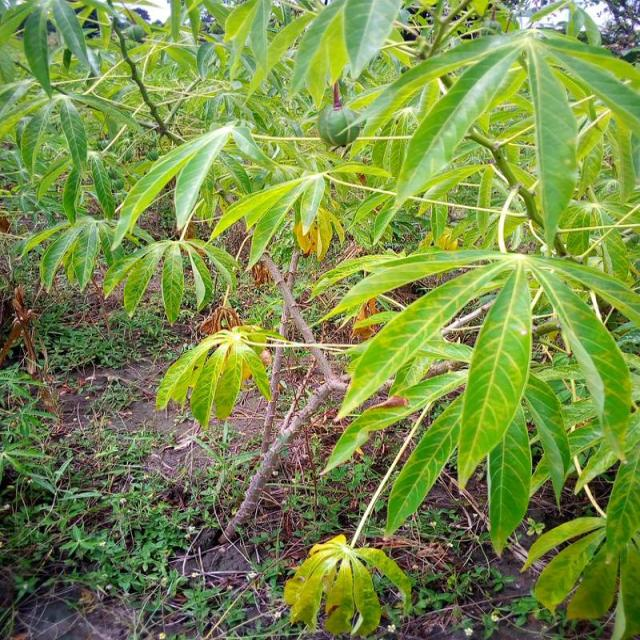cassava leaf: (456, 260, 532, 491), (109, 122, 234, 252)
